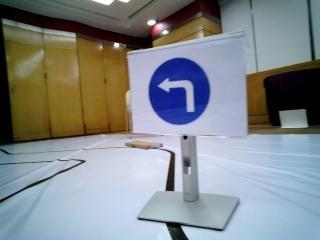left: (127, 54, 230, 126)
